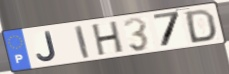3: (123, 16, 152, 53)
7: (152, 10, 183, 49)
D: (184, 8, 218, 45)
H: (91, 19, 125, 58)
I: (73, 24, 92, 60)
J: (35, 30, 59, 63)
